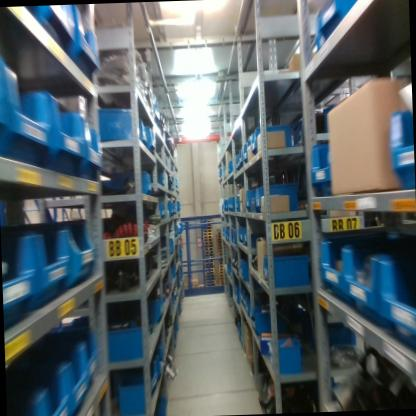pallet: (202, 256, 215, 262), (201, 240, 214, 245), (201, 249, 214, 254), (202, 262, 215, 267), (203, 264, 216, 269), (201, 238, 213, 243), (204, 279, 216, 284), (201, 231, 212, 236), (202, 244, 213, 249), (204, 267, 215, 272), (190, 284, 199, 290), (202, 228, 212, 233), (217, 251, 227, 256), (217, 260, 227, 265), (201, 235, 213, 239), (202, 253, 214, 257), (203, 259, 215, 263), (190, 278, 199, 283), (190, 282, 199, 287), (217, 242, 226, 247), (217, 245, 226, 250), (217, 248, 226, 253), (218, 257, 227, 262), (201, 222, 212, 226), (203, 247, 214, 251), (205, 271, 216, 275), (205, 276, 216, 280), (204, 283, 215, 287), (202, 219, 212, 223), (198, 284, 206, 289), (216, 240, 226, 244), (204, 274, 216, 277), (217, 254, 226, 258), (215, 233, 222, 238), (201, 226, 212, 229), (218, 266, 224, 271), (218, 270, 224, 274), (217, 230, 222, 234), (216, 237, 221, 241), (218, 264, 223, 268), (219, 273, 224, 276), (219, 276, 224, 279), (219, 279, 224, 282), (219, 282, 224, 285)
